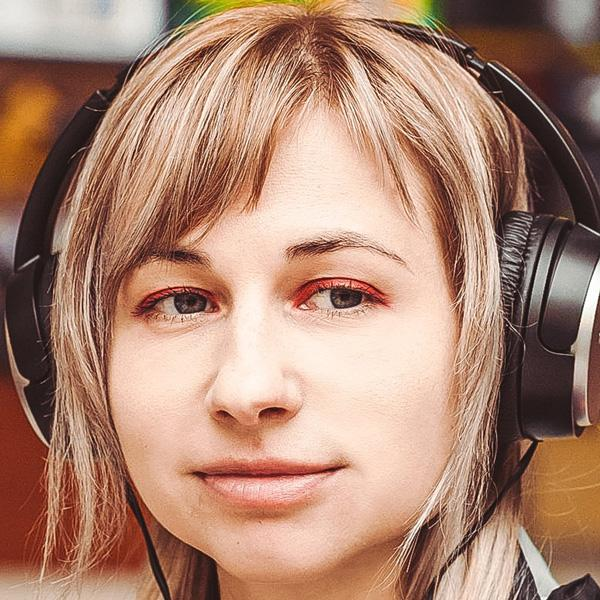Eyes: (279, 266, 395, 335), (127, 275, 230, 342)
